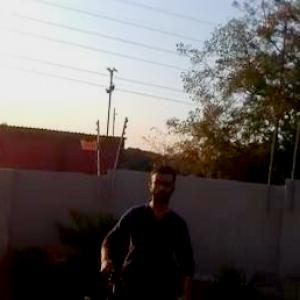follow: (92, 157, 200, 299)
